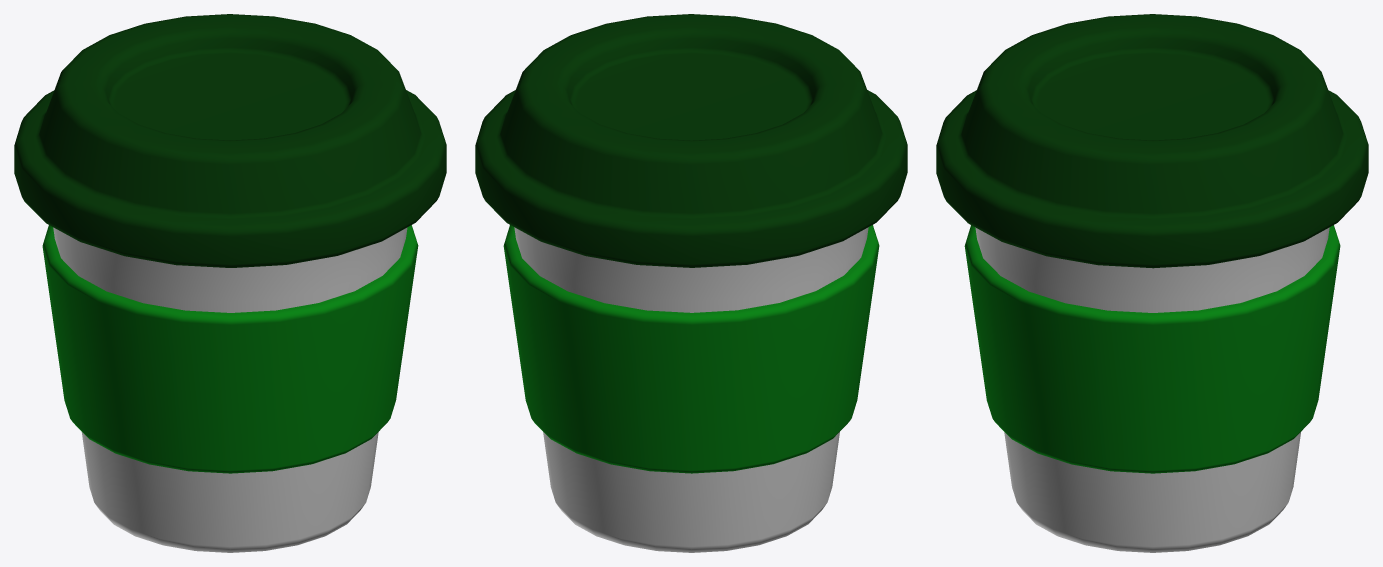
File: cafe_green.fbx
3 renders of one model, left to right at view 1: azimuth 30°, elevation 25°; view 2: azimuth 150°, elevation 25°; view 3: azimuth 270°, elevation 25°, orthographic.
Visible parts, largest first — view 1: polySurface138, box4_inner3; view 2: polySurface138, box4_inner3; view 3: polySurface138, box4_inner3.
Boxes of the visible parts, x1,y1,x2,y2 form: polySurface138: (42,225,418,552); box4_inner3: (14,14,446,267); polySurface138: (503,225,879,552); box4_inner3: (475,14,907,267); polySurface138: (964,225,1340,552); box4_inner3: (936,14,1368,268).
Size of the model in its own units: 3.77 by 4 by 3.77.
